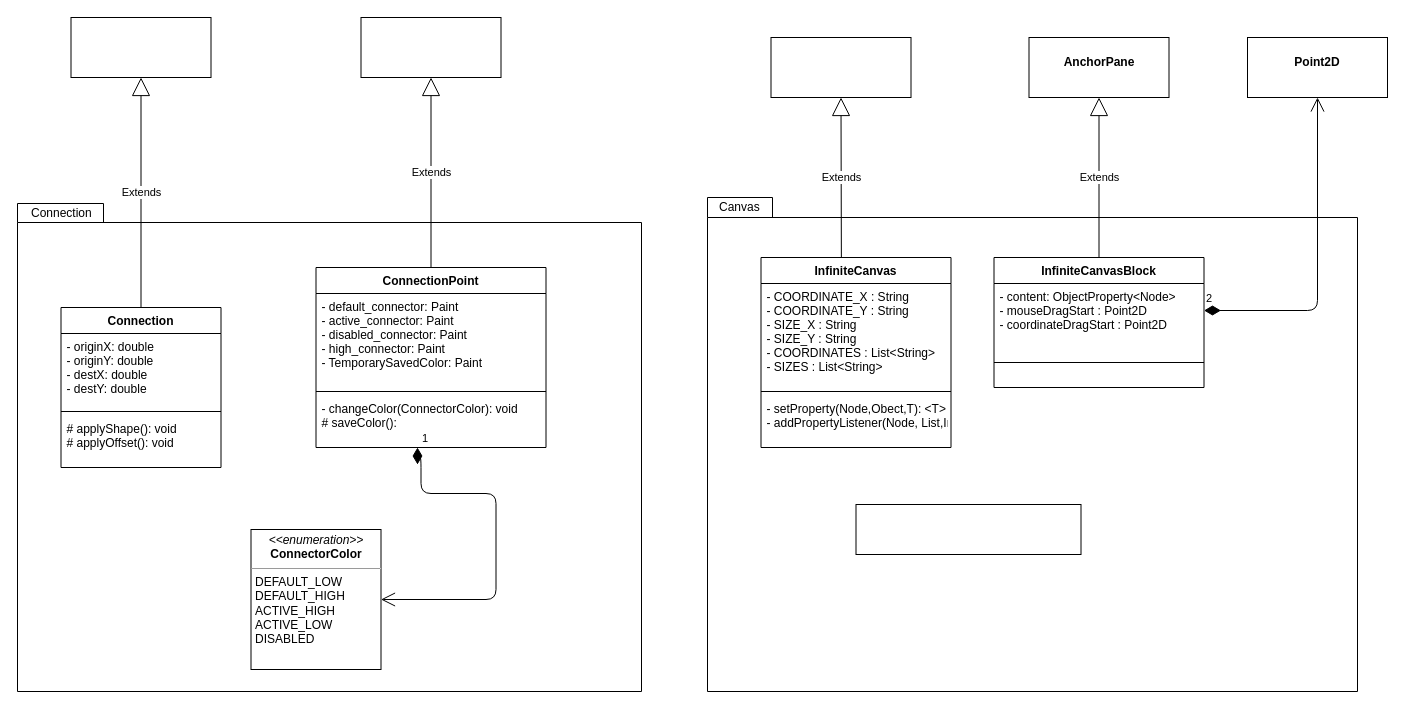
Image size: 1405x709. Some labels were removed from this diagram. Each missing label, with the centre of its shape:
"Circle" goes at [430,47].
"Line" goes at [140,47].
"Pane" goes at [840,67].
"«interface» InfiniteCanvasPropertyListener" goes at [968,529].
